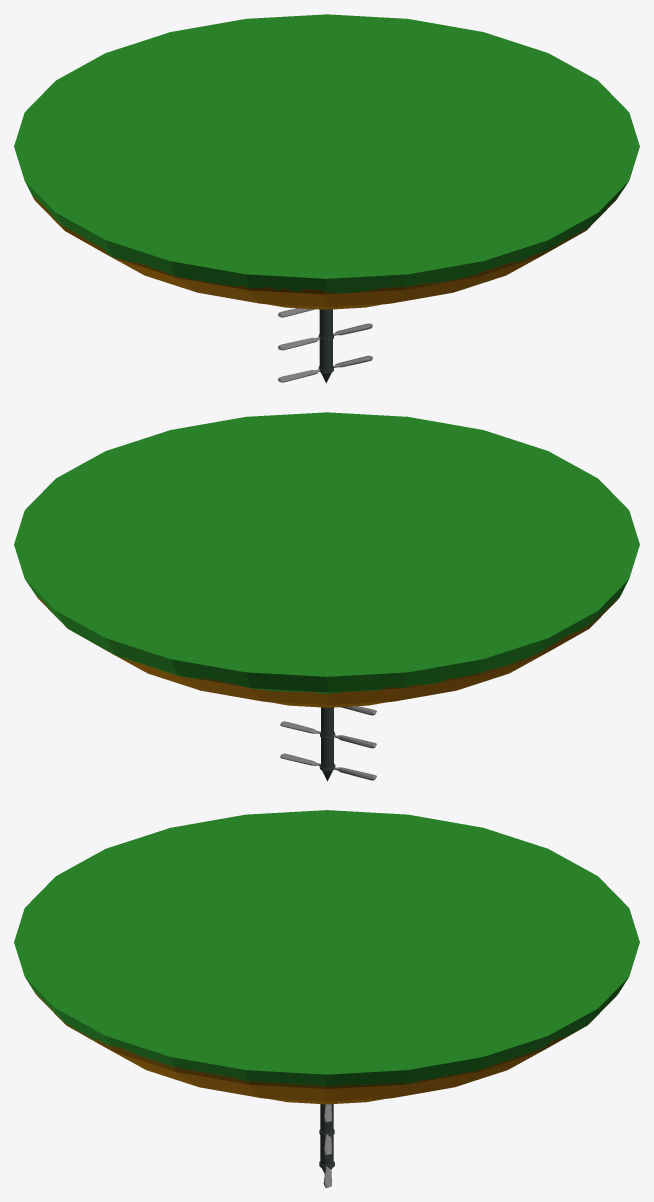
Rendered from island.fbx.
The picture shows the model from 3 angles, top to bottom: view 1: azimuth 30°, elevation 25°; view 2: azimuth 150°, elevation 25°; view 3: azimuth 270°, elevation 25°; orthographic projection.
Visible parts, largest first — view 1: Ground, Cylinder; view 2: Ground, Cylinder; view 3: Ground, Cylinder.
Boxes of the visible parts, <box> form: Ground: <box>14,14,639,309</box>; Cylinder: <box>318,309,333,383</box>; Ground: <box>14,412,639,707</box>; Cylinder: <box>319,707,335,781</box>; Ground: <box>14,810,639,1104</box>; Cylinder: <box>319,1104,334,1173</box>.
Size of the model in its own units: 6000 by 2505 by 6000.
3 materials, 3 textured.
